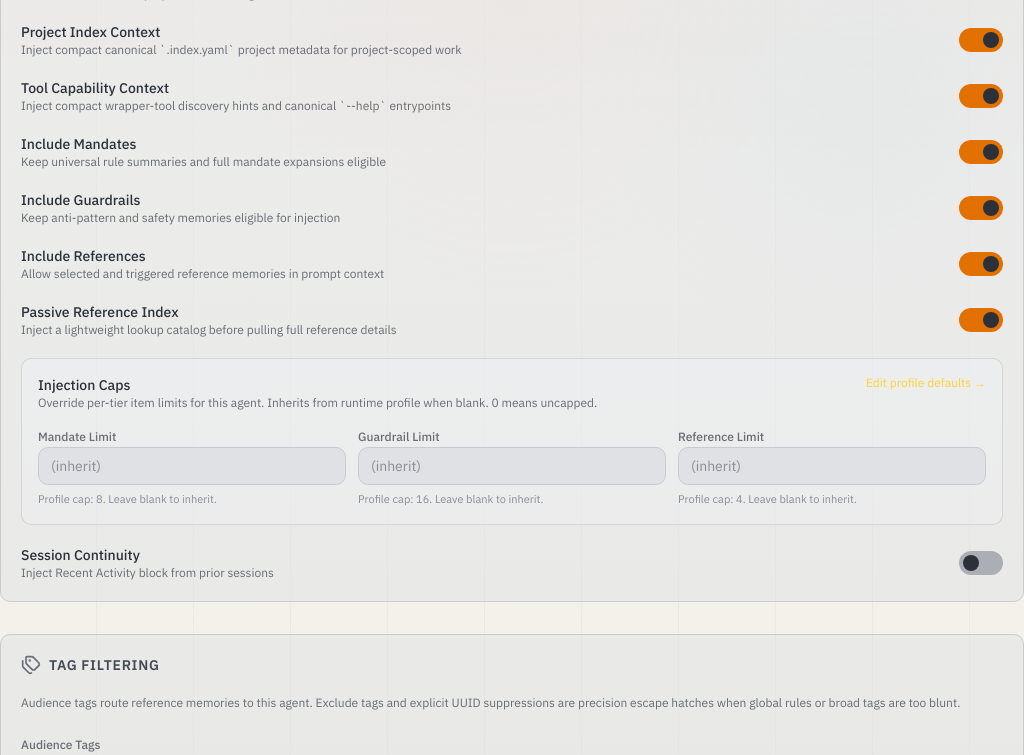
Scenario: MemoryTab › falls back to agent_runtime when no profile override is set
(page scrolled)
Click the button "Edit profile defaults →" at (926, 383), box [866,375,986,391]
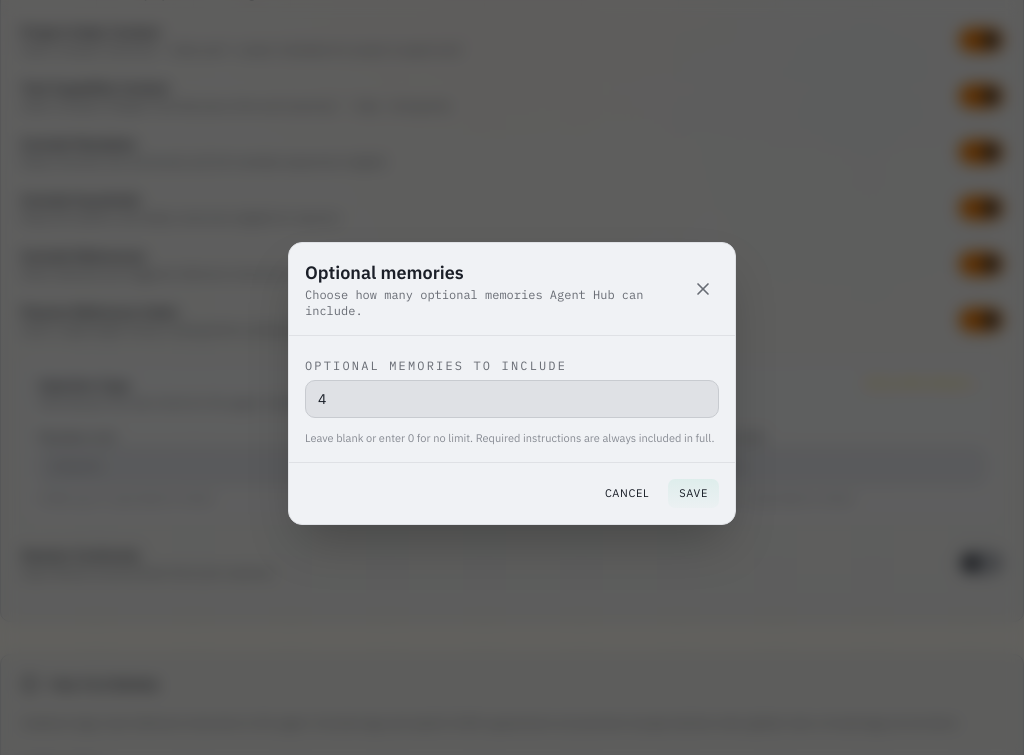
Expected: the heading "Optional memories" is shown, [305,260,464,284]
